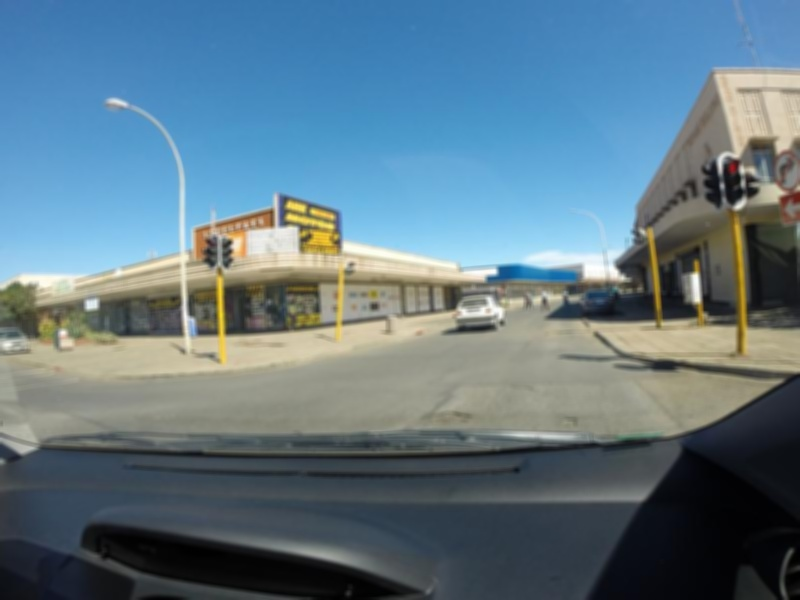pothole: (415, 399, 476, 426), (509, 378, 537, 393), (558, 411, 579, 429)
